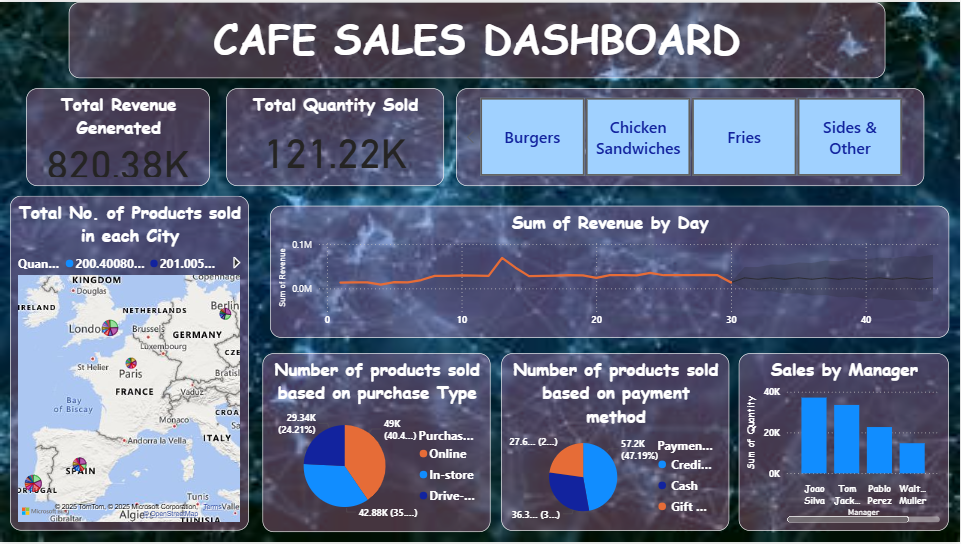

Layout of this report page (visuals, bound fields, positions):
{"tool":"powerbi","page":{"name":"Page 1","canvas":[1280,720],"ordinal":0},"visuals":[{"type":"card","title":"Total Quantity Sold","fields":{"Values":["Sheet1.Quantity"]},"box":[301.7,115,290,130],"z":0},{"type":"slicer","fields":{"Values":["Sheet1.Product"]},"box":[608.6,114.3,624.3,130],"z":1000},{"type":"pieChart","title":" Number of products sold based on purchase Type","fields":{"Y":["Sheet1.Quantity"],"Category":["Sheet1.Purchase Type"]},"box":[350,468.6,304.3,238.6],"z":2000},{"type":"pieChart","title":"Number of products sold based on payment method","fields":{"Y":["Sheet1.Quantity"],"Category":["Sheet1.Payment Method"]},"box":[668.6,468.6,304.3,237.1],"z":3000},{"type":"clusteredColumnChart","title":"Sales by Manager","fields":{"Category":["Sheet1.Manager"],"Y":["Sheet1.Quantity"]},"box":[985.7,468.6,280,237.1],"z":4000},{"type":"map","title":"Total No. of Products sold in each City","fields":{"Category":["Sheet1.City"],"Series":["Sheet1.Quantity"],"Size":["Sheet1.Quantity"]},"box":[13.3,258.3,318.3,446.7],"z":5000},{"type":"card","title":"Total Revenue Generated","fields":{"Values":["Sheet1.Revenue"]},"box":[35,115,245,130],"z":6000},{"type":"lineChart","fields":{"Category":["Sheet1.Date.Variation.Date Hierarchy.Day"],"Y":["Sheet1.Revenue"]},"box":[360,271.4,905.7,175.7],"z":7000},{"type":"textbox","box":[91.4,0,1088.6,101.4],"z":8000}]}

Visuals, with their boxes in screenshot pixels (x1, y1, x2, y2), scaled from the page's 1280x720 canvas onto the 961x544 screenshot:
"Total Quantity Sold" card: {"left": 227, "top": 87, "right": 444, "bottom": 185}
slicer - Sheet1.Product: {"left": 457, "top": 86, "right": 926, "bottom": 185}
" Number of products sold based on purchase Type" pieChart: {"left": 263, "top": 354, "right": 491, "bottom": 534}
"Number of products sold based on payment method" pieChart: {"left": 502, "top": 354, "right": 730, "bottom": 533}
"Sales by Manager" clusteredColumnChart: {"left": 740, "top": 354, "right": 950, "bottom": 533}
"Total No. of Products sold in each City" map: {"left": 10, "top": 195, "right": 249, "bottom": 533}
"Total Revenue Generated" card: {"left": 26, "top": 87, "right": 210, "bottom": 185}
lineChart - Sheet1.Date.Variation.Date Hierarchy.Day x Sheet1.Revenue: {"left": 270, "top": 205, "right": 950, "bottom": 338}
textbox: {"left": 69, "top": 0, "right": 886, "bottom": 77}
